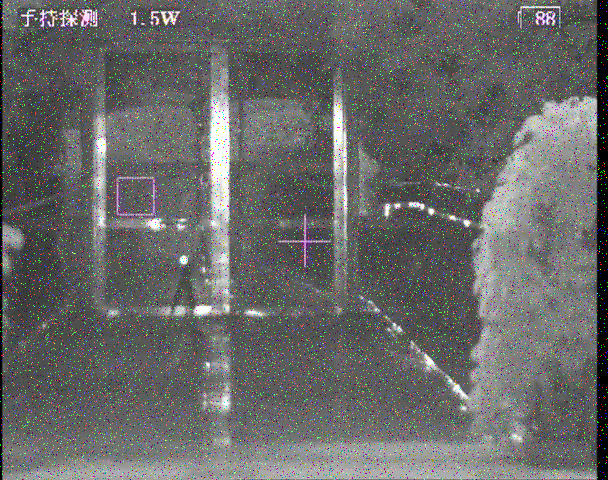my: (177, 254, 189, 266)
